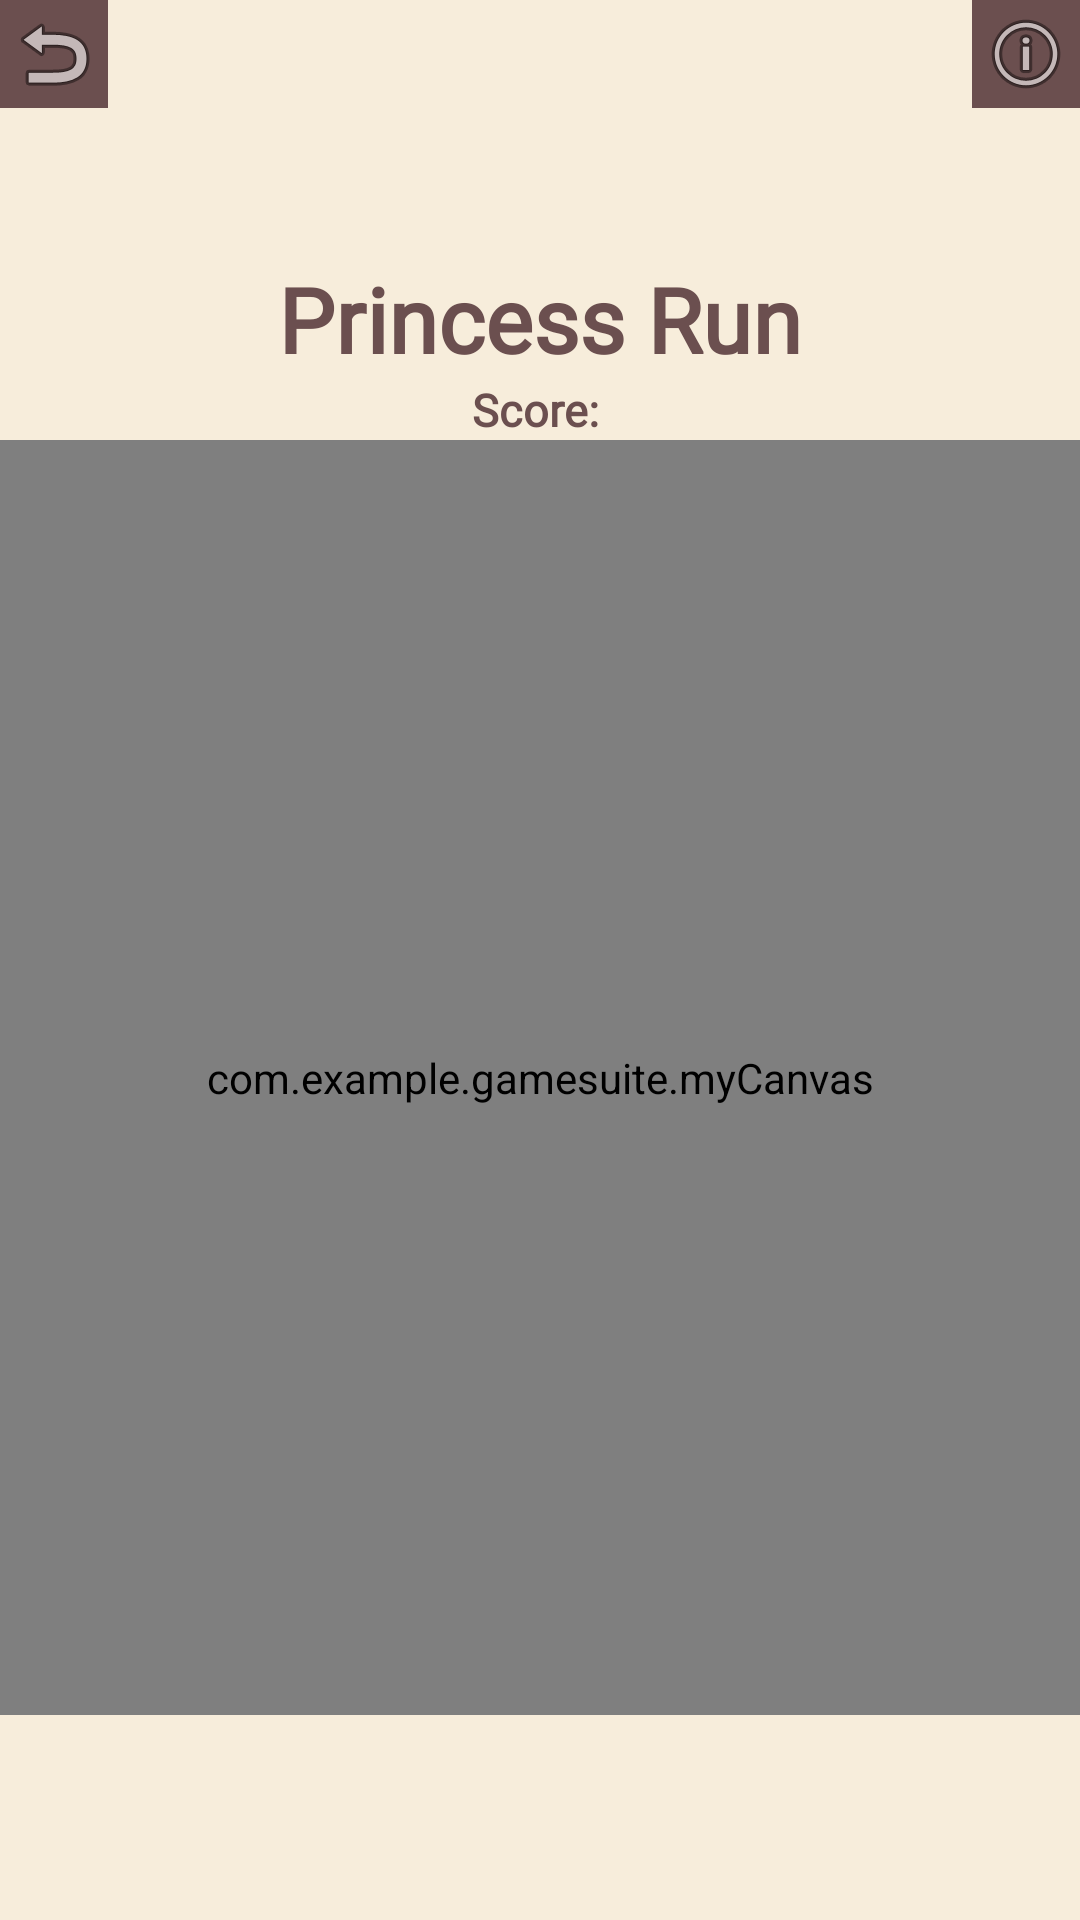

Icons on this 1080px×1920px Android screen, each with the point to tap as (x,y):
info details: (1026,54)
revert: (54,54)
